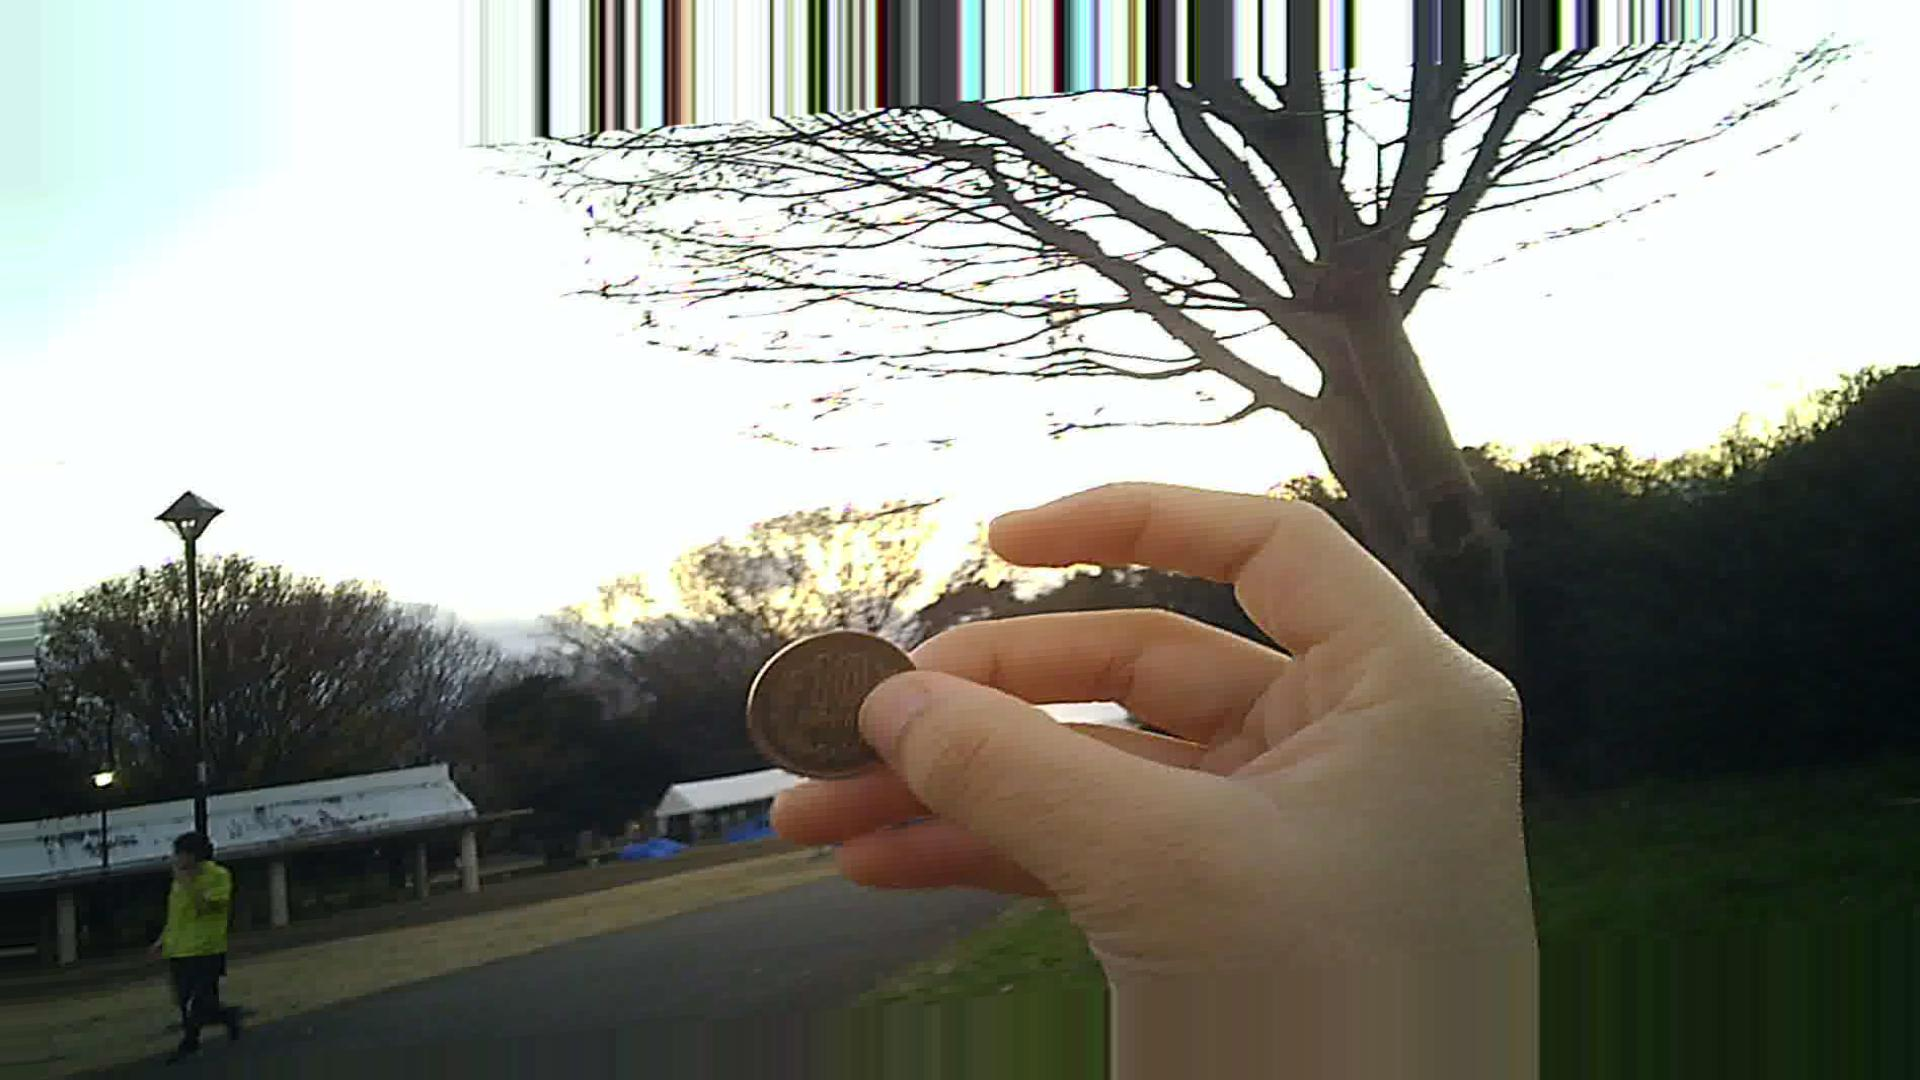10 Yen: (735, 622, 938, 770)
